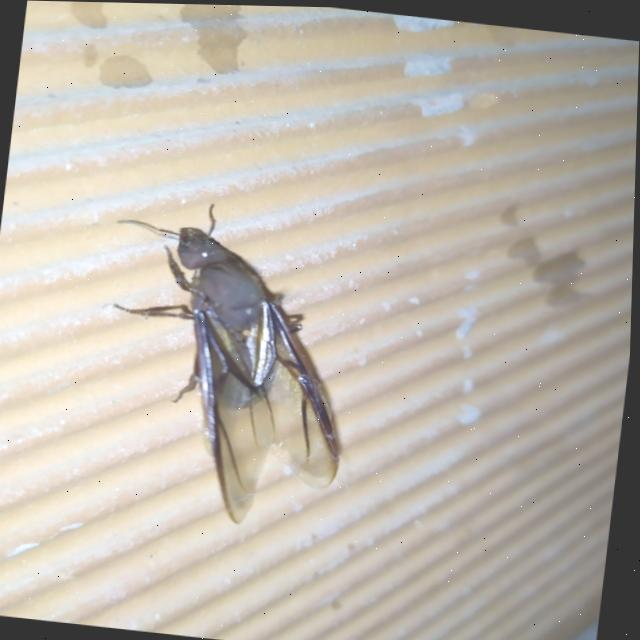Alive-Female-Alate: (85, 192, 371, 534)
